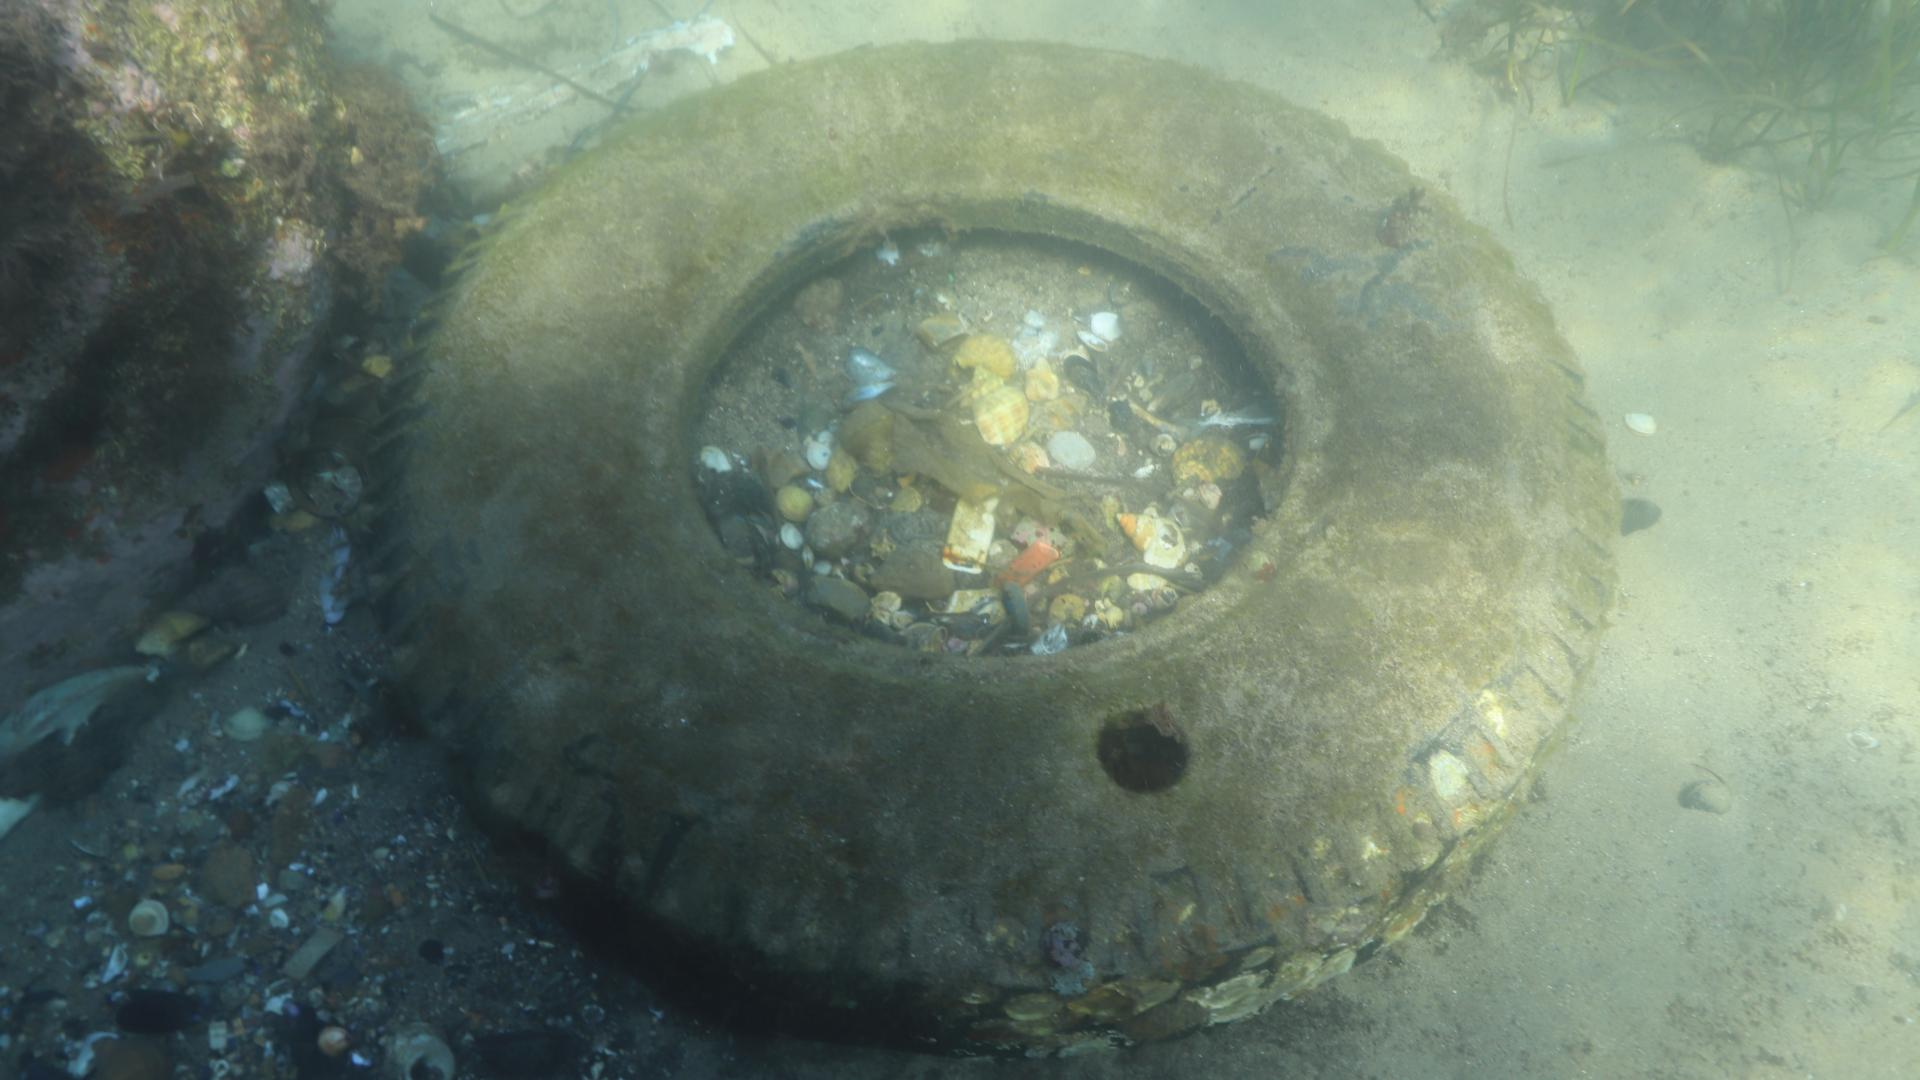tire: (355, 36, 1615, 1063)
